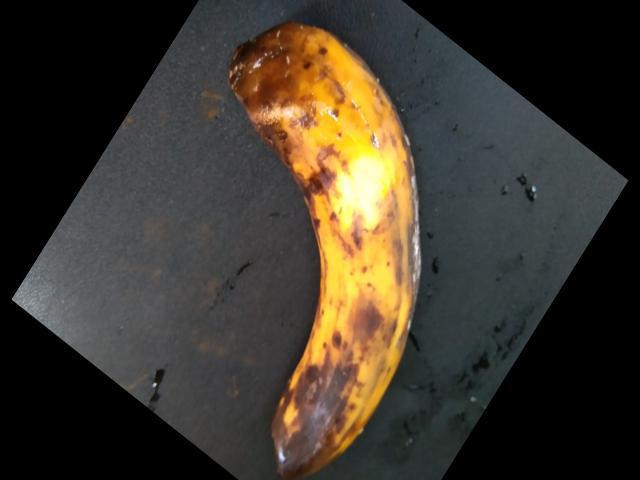rotten: (198, 20, 471, 479)
